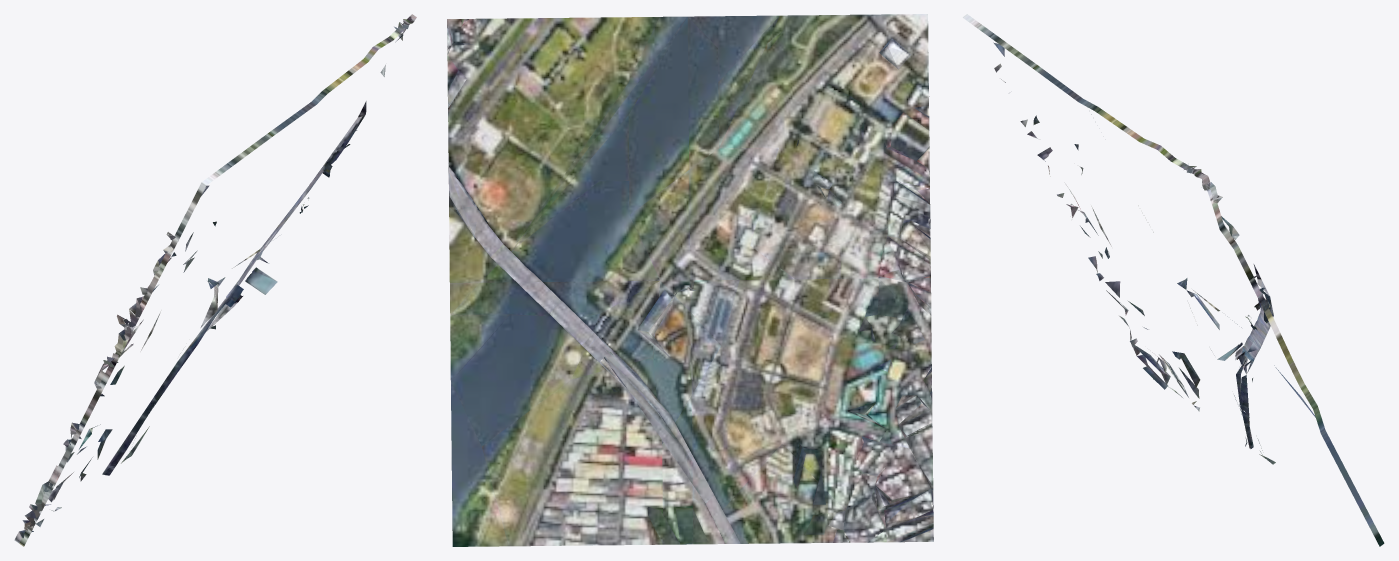
3 views of the same model, side by side, from view 1: azimuth 30°, elevation 25°; view 2: azimuth 150°, elevation 25°; view 3: azimuth 270°, elevation 25° (orthographic). The views are drawn at different scales.
Size of the model in its own units: 1227 by 1118 by 1027.
1 material, 1 textured.
